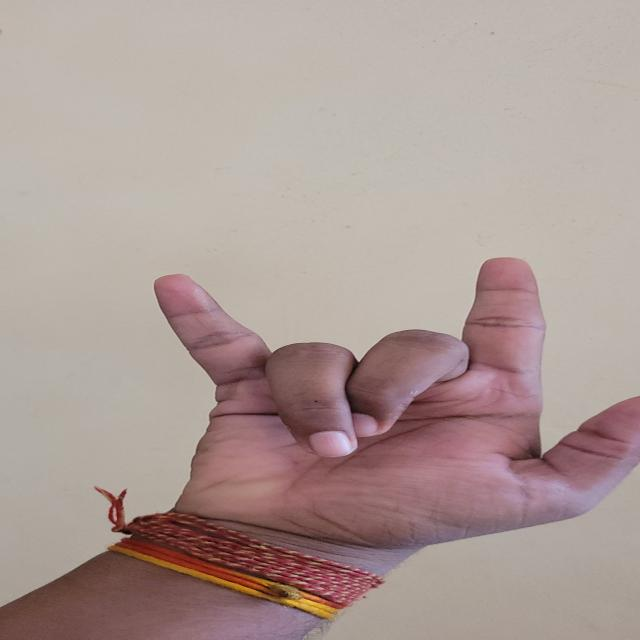i like you: (75, 242, 640, 570)
